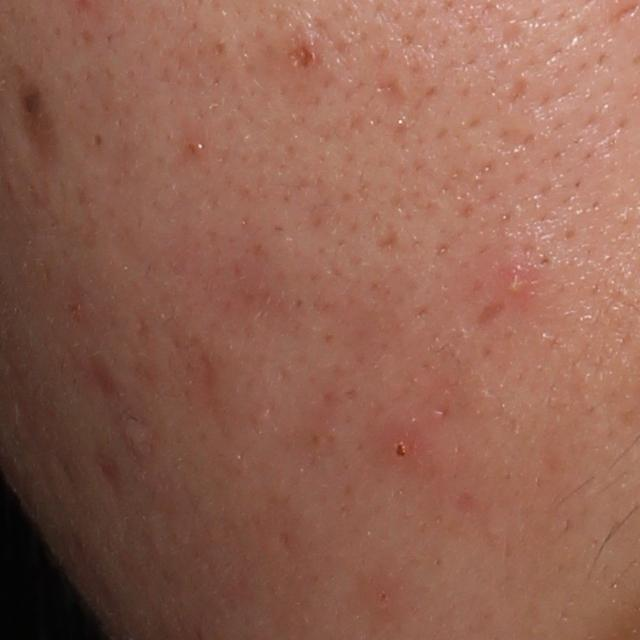atrophic_scar: (19, 87, 49, 166), (366, 72, 413, 117), (374, 226, 411, 267), (494, 124, 537, 156), (476, 298, 505, 329), (503, 72, 530, 101)
comedo: (85, 127, 107, 153)
papule: (379, 428, 418, 465)
pustule: (487, 253, 549, 312)
